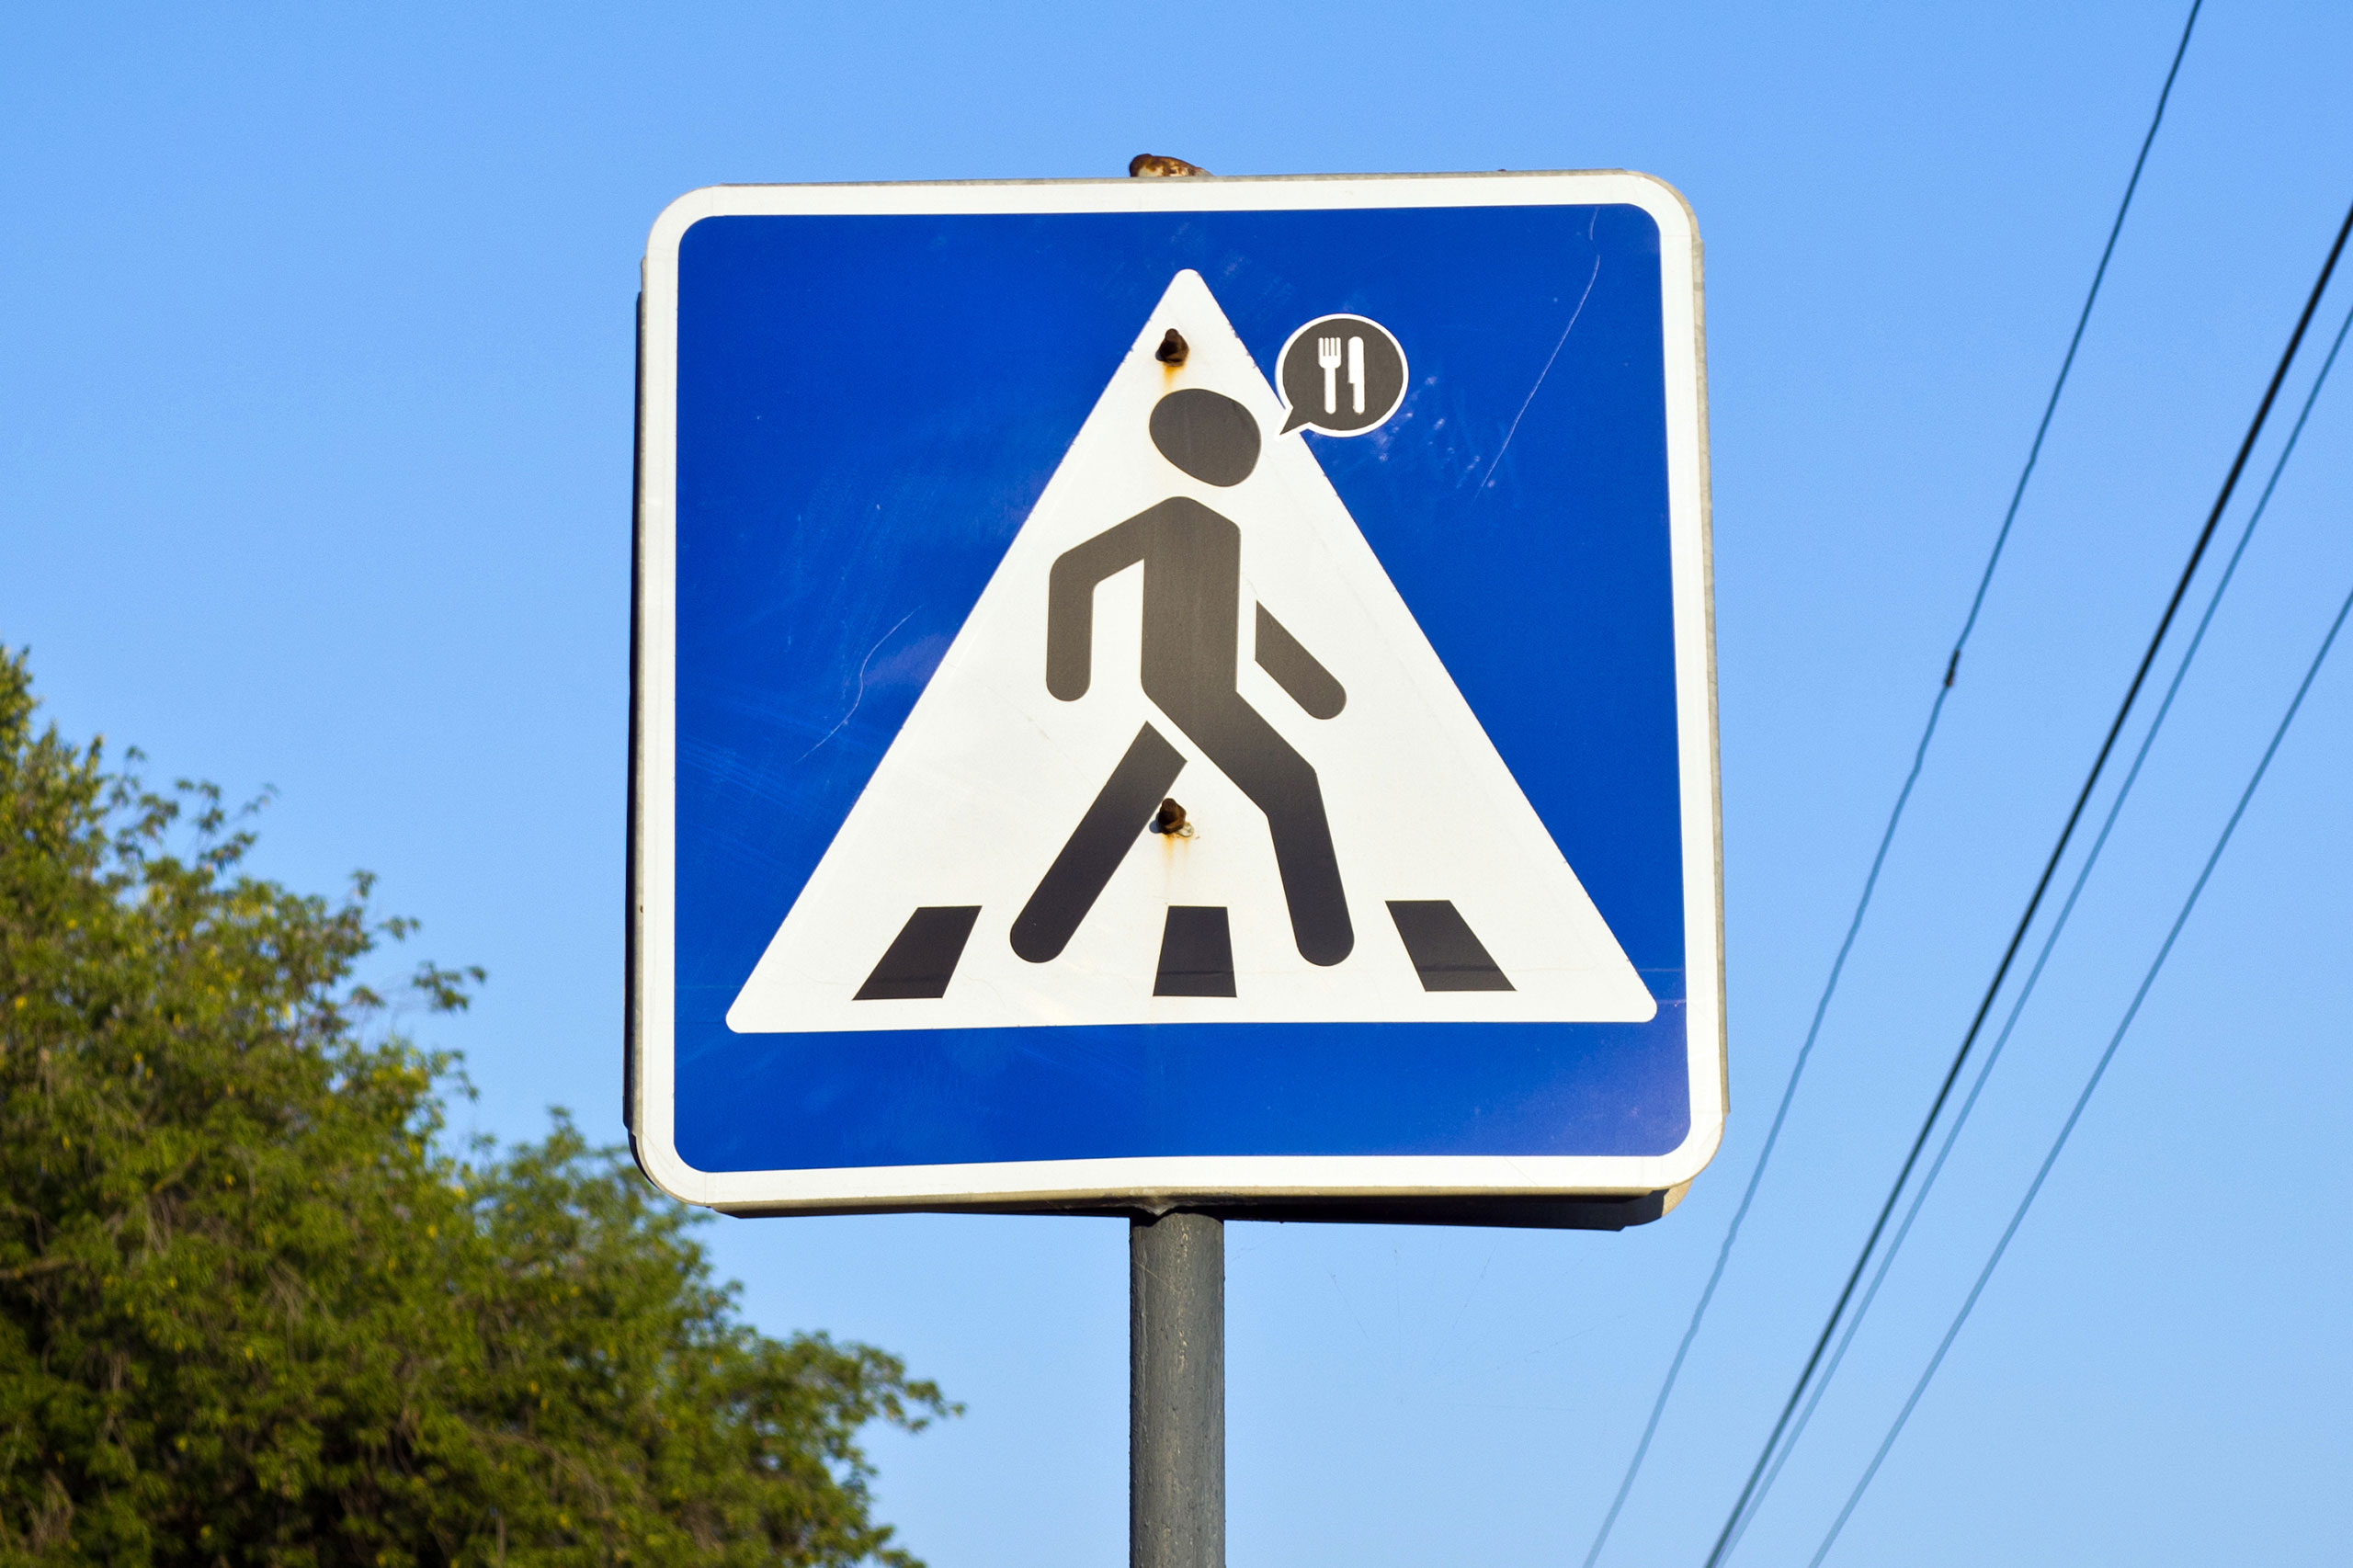yaya_gecidi_levha: (630, 177, 1705, 1188)
